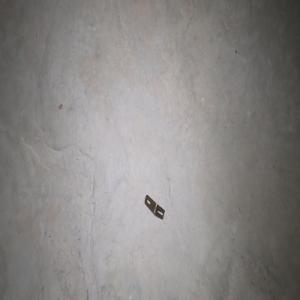MetalPart: (144, 193, 165, 220)
